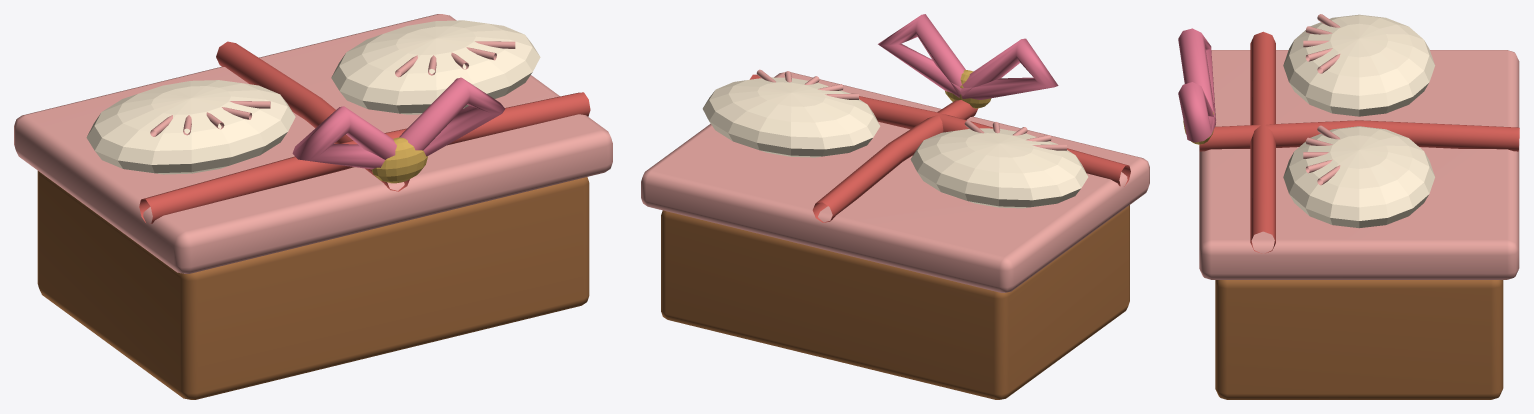
The model's file is japan-shell-gift.glb.
3 renders of one model, left to right at view 1: azimuth 30°, elevation 25°; view 2: azimuth 150°, elevation 25°; view 3: azimuth 270°, elevation 25°, orthographic. The views are drawn at different scales.
Visible parts, largest first — view 1: ひらく はこの した, ふた, さくらがい, さくらがい.001, リボンの よこ, リボンの わ.001, リボンの わ, リボンの たて, リボンの むすびめ; view 2: ひらく はこの した, ふた, さくらがい, さくらがい.001, リボンの たて, リボンの わ.001, リボンの わ, リボンの よこ; view 3: ふた, ひらく はこの した, さくらがい, さくらがい.001, リボンの たて, リボンの よこ, リボンの わ, リボンの わ.001.
Part boxes in pixels (x1,y1,x2,y2): ひらく はこの した: (37, 171, 589, 399); ふた: (14, 14, 612, 273); さくらがい: (86, 80, 295, 174); さくらがい.001: (331, 20, 540, 114); リボンの よこ: (139, 92, 590, 223); リボンの わ.001: (399, 77, 504, 156); リボンの わ: (292, 106, 396, 169); リボンの たて: (216, 41, 409, 191); リボンの むすびめ: (371, 137, 427, 183); ひらく はこの した: (661, 205, 1129, 399); ふた: (641, 72, 1149, 292); さくらがい: (910, 128, 1088, 208); さくらがい.001: (702, 77, 880, 157); リボンの たて: (812, 100, 978, 222); リボンの わ.001: (878, 14, 965, 97); リボンの わ: (961, 38, 1058, 99); リボンの よこ: (750, 74, 1130, 186); ふた: (1199, 50, 1519, 279); ひらく はこの した: (1215, 280, 1503, 399); さくらがい: (1283, 14, 1435, 116); さくらがい.001: (1283, 126, 1434, 228); リボンの たて: (1199, 120, 1519, 151); リボンの よこ: (1250, 31, 1275, 253); リボンの わ: (1178, 28, 1215, 120); リボンの わ.001: (1178, 82, 1216, 142).
Size of the model in its own units: 1.18 by 0.7078 by 0.8545.
